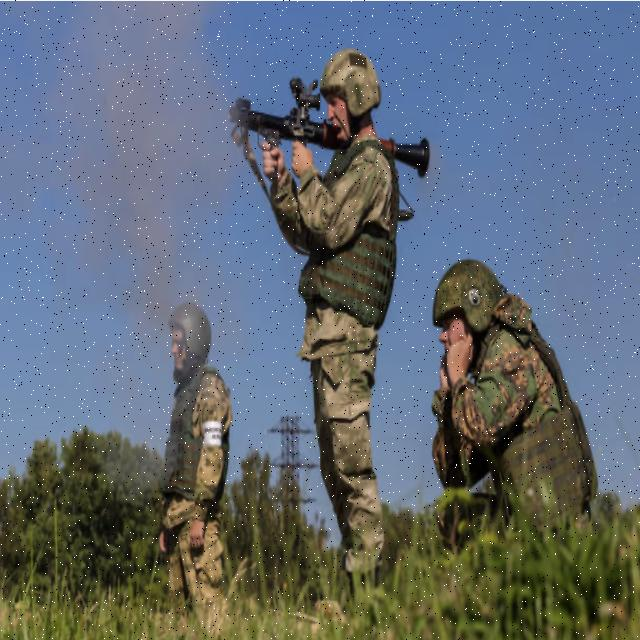bazooka: (227, 81, 443, 192)
